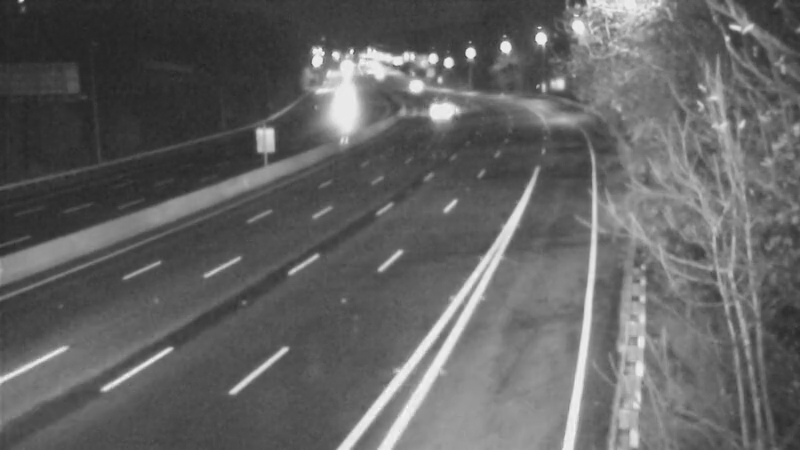vehicle: (413, 85, 463, 135)
